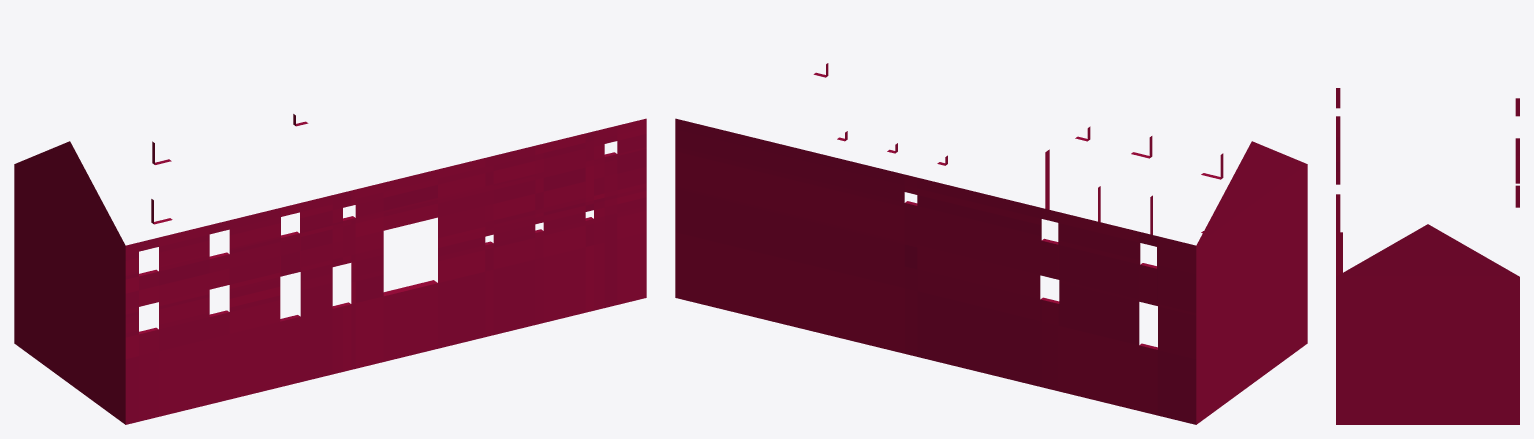
Rendered from SM_Bld_122_Masonry.glb.
3 views of the same model, side by side, from view 1: azimuth 30°, elevation 25°; view 2: azimuth 150°, elevation 25°; view 3: azimuth 270°, elevation 25° (orthographic). The views are drawn at different scales.
Visible parts, largest first — view 1: SM_Bld_122_Masonry; view 2: SM_Bld_122_Masonry; view 3: SM_Bld_122_Masonry.
Part boxes in pixels (x1,y1,x2,y2): SM_Bld_122_Masonry: (14, 114, 646, 424); SM_Bld_122_Masonry: (675, 63, 1307, 424); SM_Bld_122_Masonry: (1336, 88, 1519, 424).
Size of the model in its own units: 24.92 by 11.12 by 9.22.
